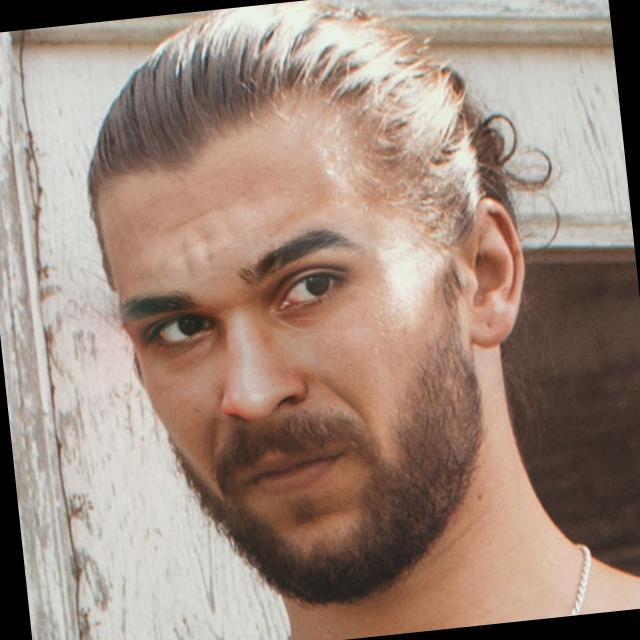face: (65, 0, 563, 623)
